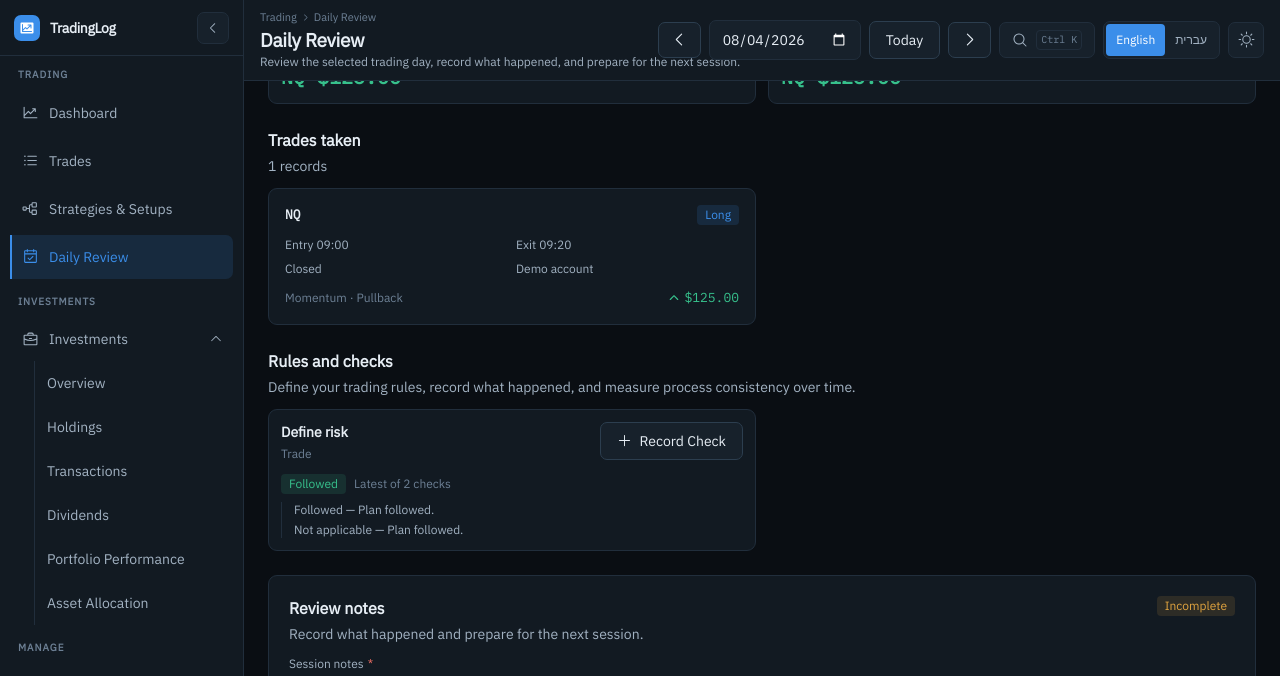
Daily Review page composition › pre-fills Record Check with selected rule and exact date
The image size is (1280, 676).
(page scrolled)
Click the button "Record Check": point(671, 441) 600,422 -> 743,460
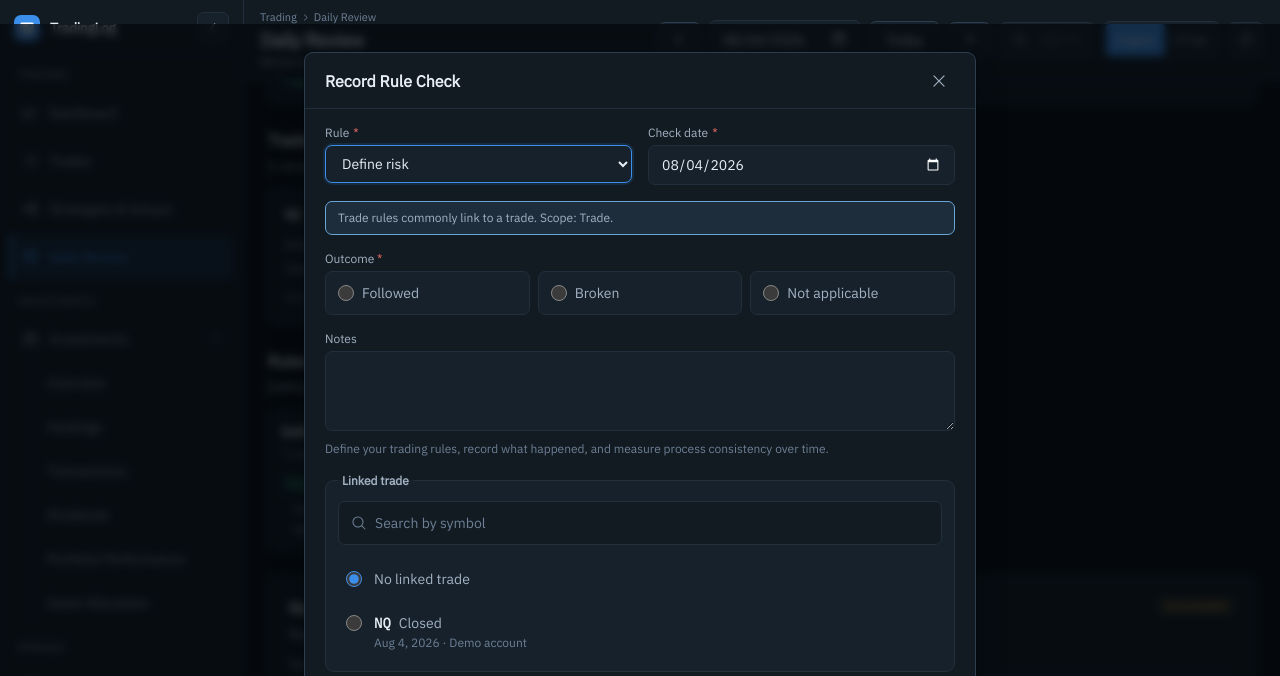
Result: the dropdown labelled "Rule*" shows "Define risk" at 325,145 -> 632,183
Result: the date field labelled "Check date*" holds "2026-08-04" at 648,145 -> 955,185
